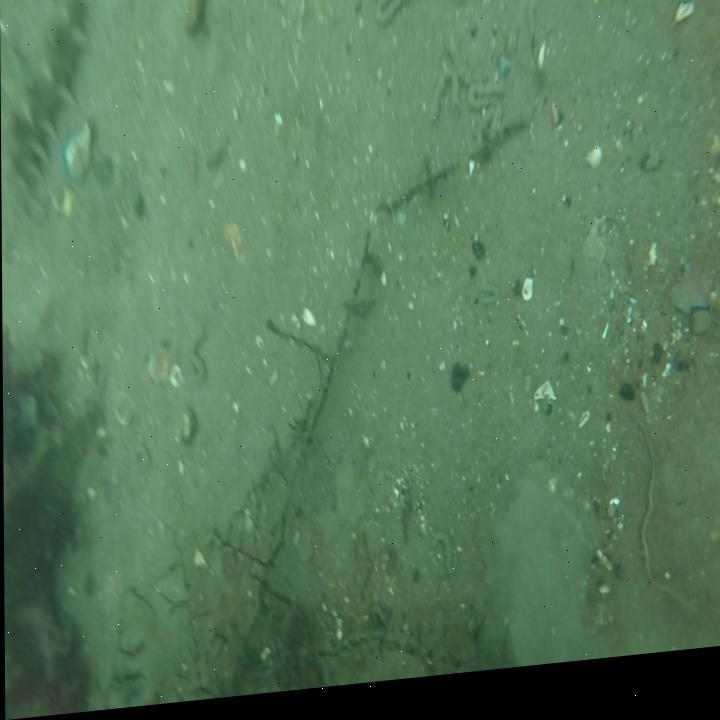holothurian: (3, 0, 88, 220)
